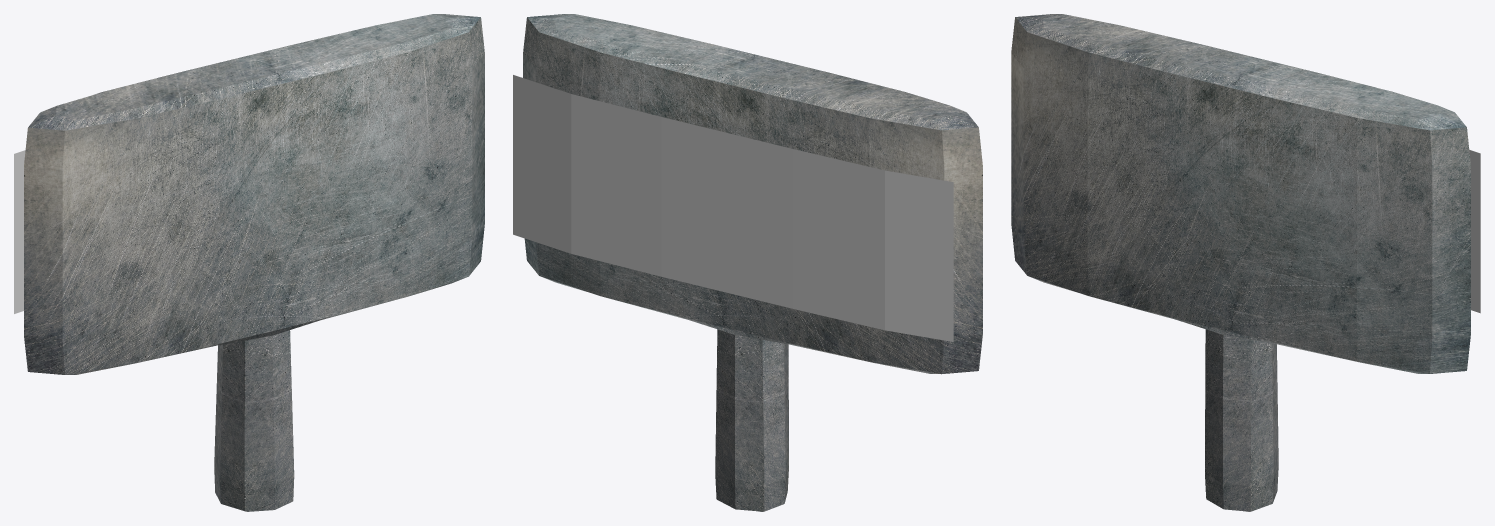
File: Sign.fbx
The picture shows the model from 3 angles, left to right: view 1: azimuth 30°, elevation 25°; view 2: azimuth 150°, elevation 25°; view 3: azimuth 330°, elevation 25°; orthographic projection.
Visible parts, largest first — view 1: Cube, Cube.001; view 2: Cube, Cube.001; view 3: Cube, Cube.001.
Part boxes in pixels (x1,y1,x2,y2): Cube: [24, 14, 484, 511]; Cube.001: [14, 150, 25, 313]; Cube: [523, 14, 982, 511]; Cube.001: [513, 75, 953, 341]; Cube: [1011, 14, 1470, 511]; Cube.001: [1469, 150, 1480, 313].
Size of the model in its own units: 389 by 349 by 66.2.
1 material, 1 textured.
